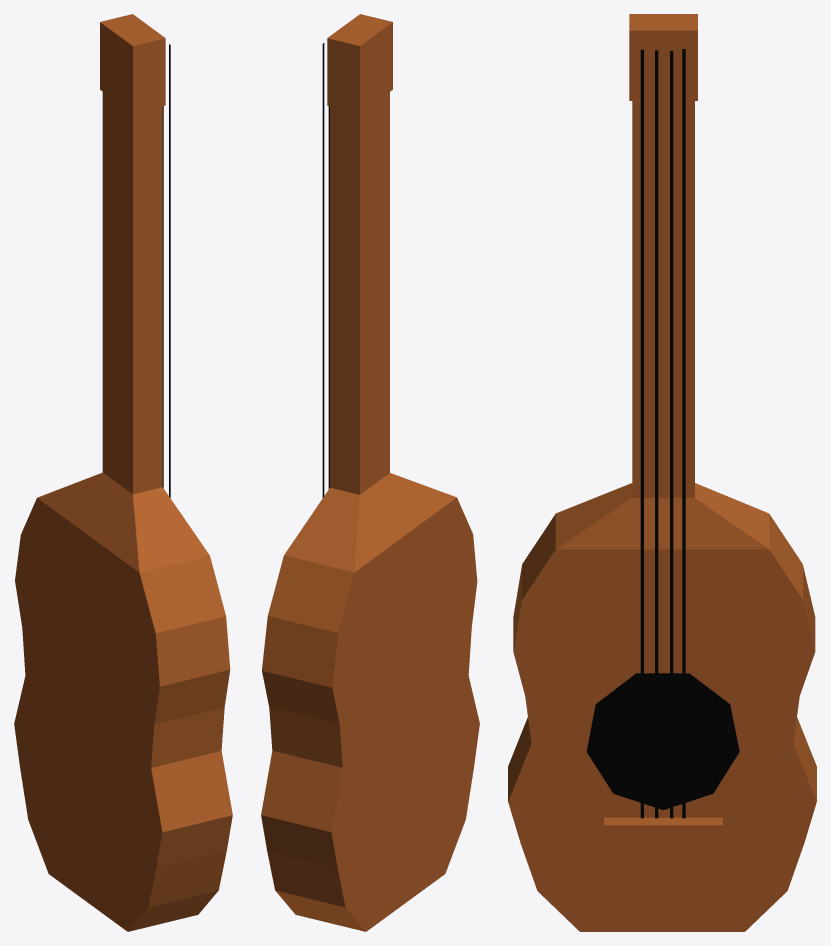
Rendered from Violin.fbx.
3 renders of one model, left to right at view 1: azimuth 30°, elevation 25°; view 2: azimuth 150°, elevation 25°; view 3: azimuth 270°, elevation 25°, orthographic. The views are drawn at different scales.
Visible parts, largest first — view 1: Cube.002, Plane.005, Plane.006; view 2: Cube.002, Plane.007, Plane.004; view 3: Cube.002, Circle.001, Cube.003, Plane.007, Plane.005, Plane.006, Plane.004.
Part boxes in pixels (bbox=[...]): Cube.002: bbox=[14, 14, 232, 931]; Plane.005: bbox=[169, 44, 170, 497]; Plane.006: bbox=[162, 106, 163, 487]; Cube.002: bbox=[261, 14, 479, 931]; Plane.007: bbox=[322, 43, 324, 497]; Plane.004: bbox=[328, 106, 329, 488]; Cube.002: bbox=[508, 14, 816, 931]; Circle.001: bbox=[586, 673, 739, 809]; Cube.003: bbox=[604, 817, 722, 845]; Plane.007: bbox=[682, 49, 685, 818]; Plane.005: bbox=[640, 49, 643, 818]; Plane.006: bbox=[655, 50, 658, 818]; Plane.004: bbox=[670, 51, 673, 818].
Bounding box in the file's own units: 38.15 × 366 × 114.
